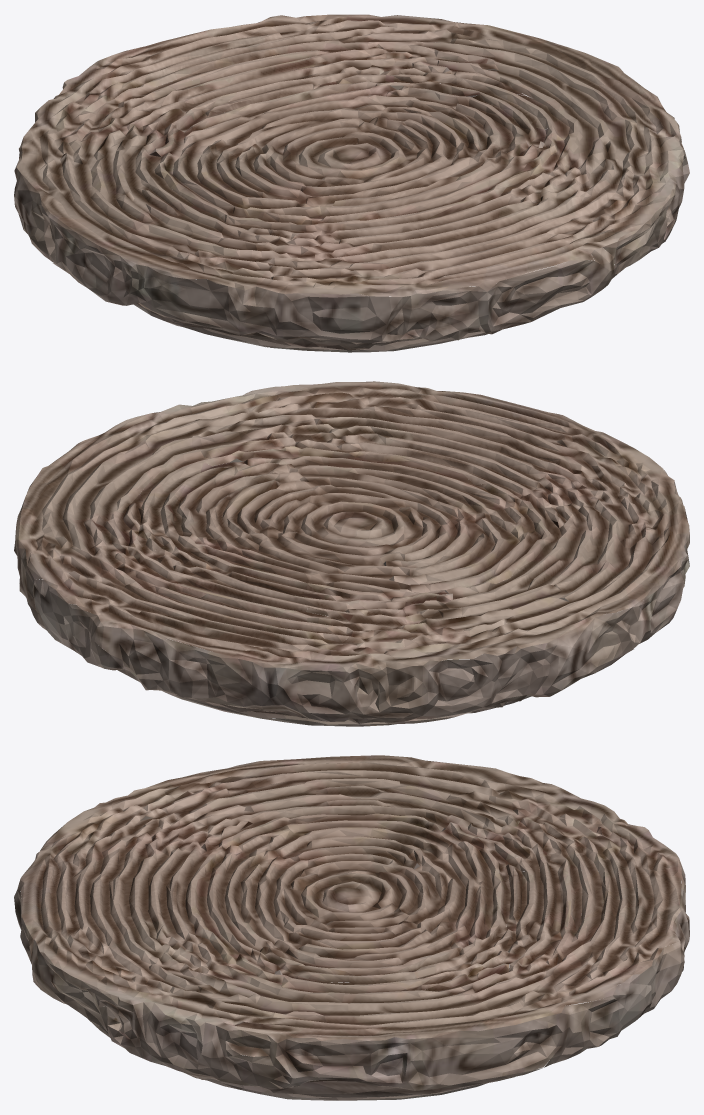
File: wt-wasteland-ritual-dais.glb
3 renders of one model, top to bottom at view 1: azimuth 30°, elevation 25°; view 2: azimuth 150°, elevation 25°; view 3: azimuth 270°, elevation 25°, orthographic.
Parts seen in each view (by area): view 1: tmpsgv0k5gw.ply; view 2: tmpsgv0k5gw.ply; view 3: tmpsgv0k5gw.ply.
Part boxes in pixels (<box>): tmpsgv0k5gw.ply: <box>14,14,689,352</box>; tmpsgv0k5gw.ply: <box>14,381,689,726</box>; tmpsgv0k5gw.ply: <box>14,755,689,1100</box>.
Size of the model in its own units: 6 by 0.9637 by 6.
1 material, 1 textured.
